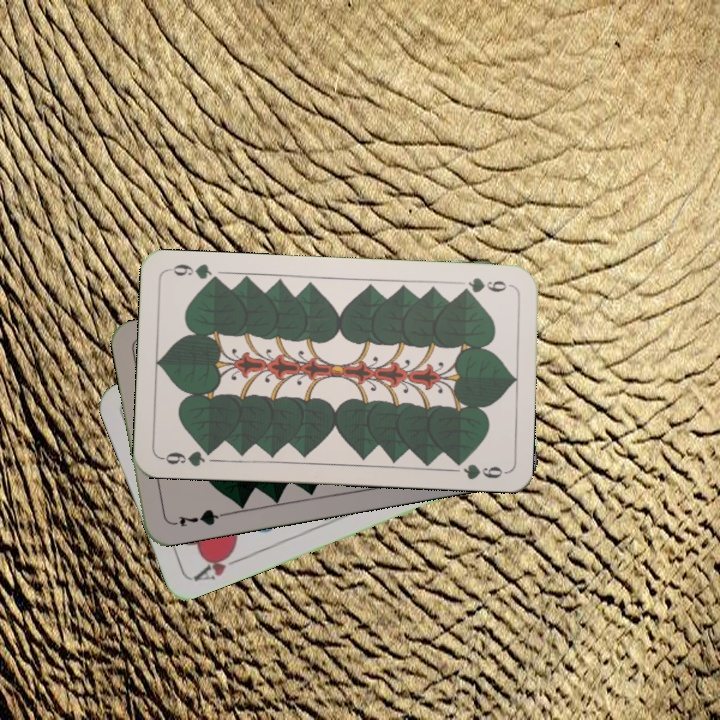G7: (168, 505, 227, 530)
G9: (157, 444, 217, 469), (456, 273, 514, 296)
HA: (190, 545, 246, 584)
